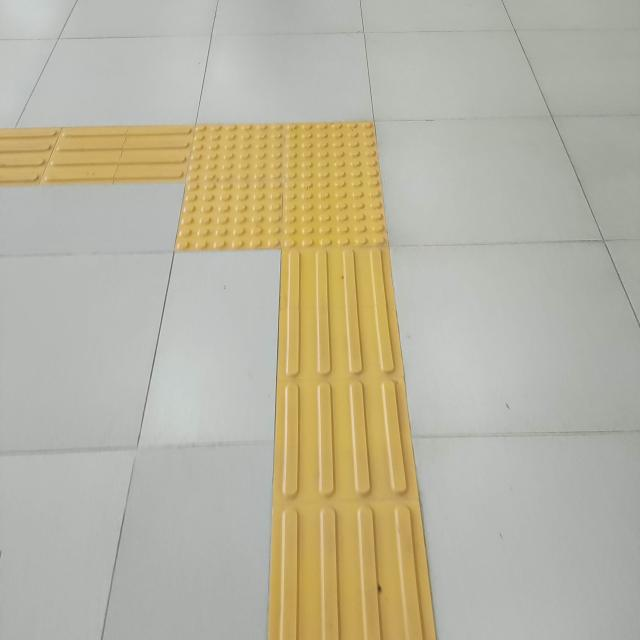kiri: (83, 83, 419, 306)
